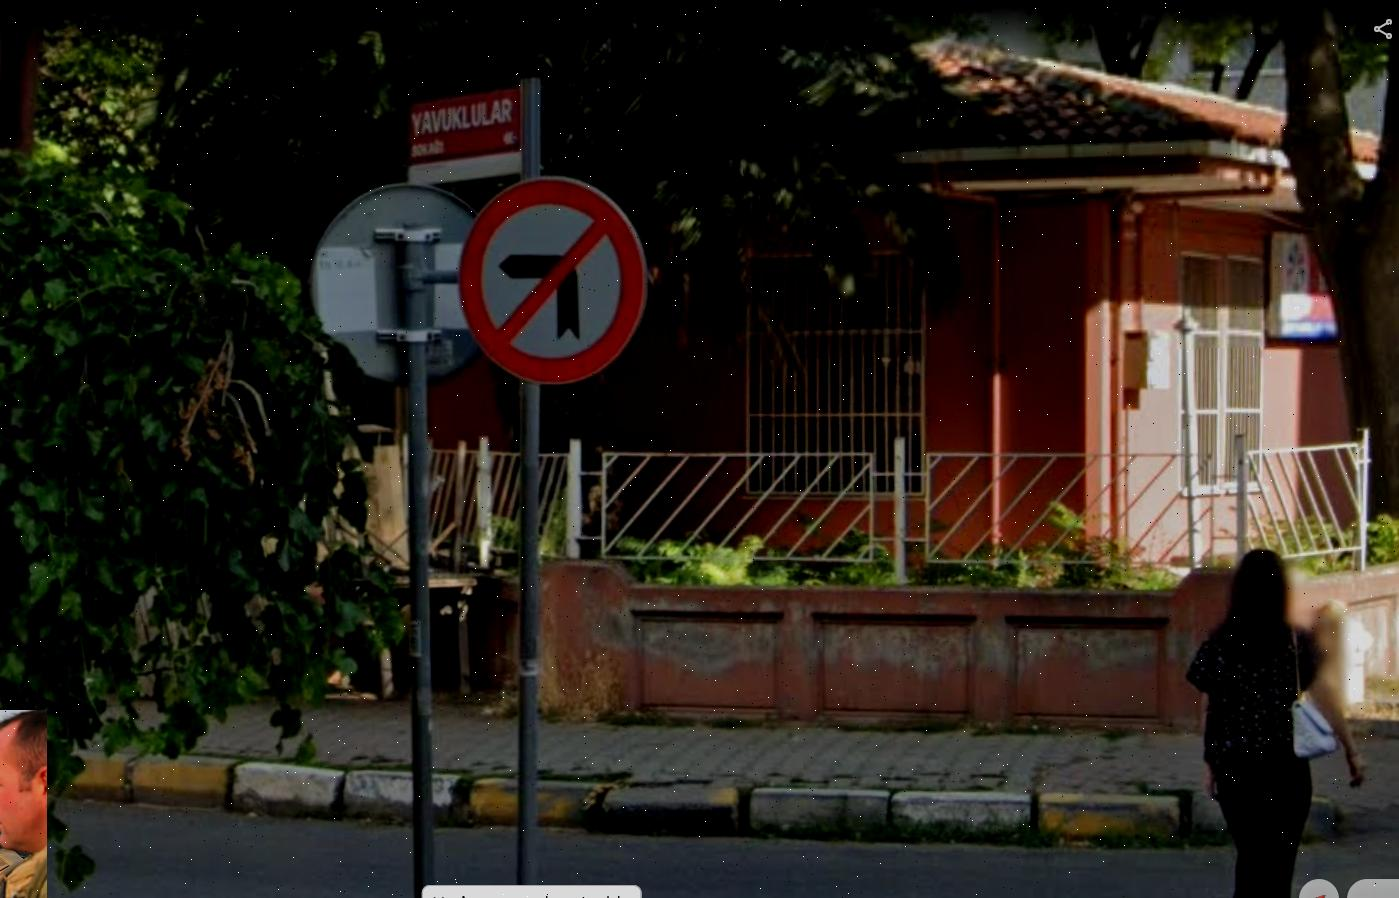leftturnsareforbidden: (465, 182, 642, 380)
